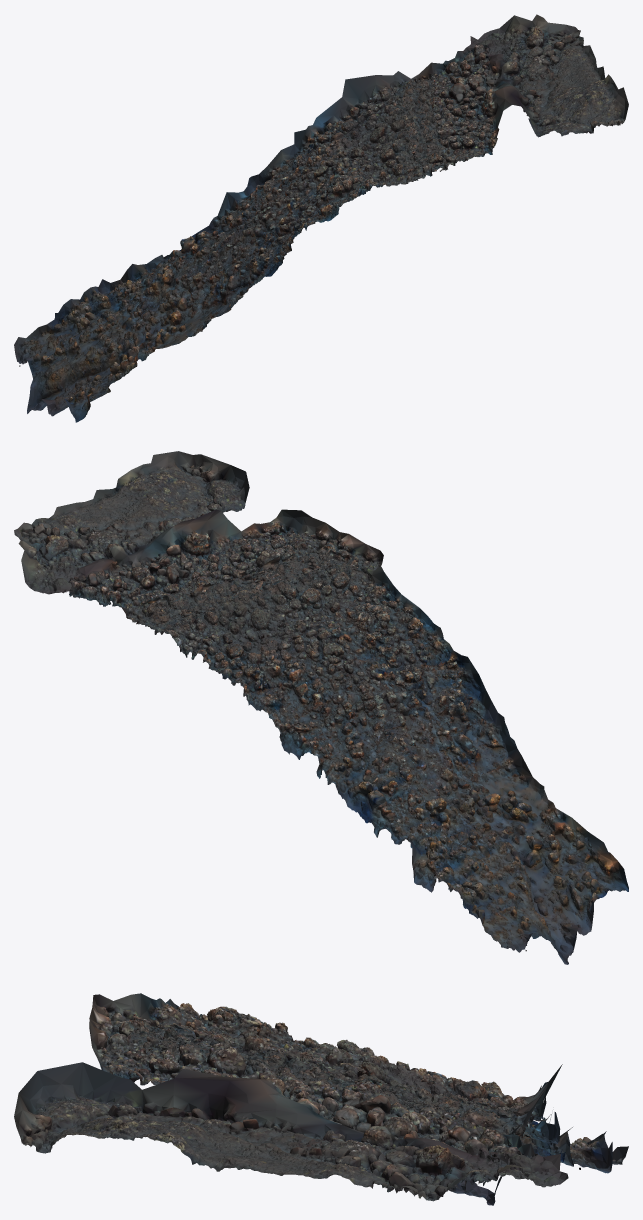
The model's file is reconstruction.glb.
3 renders of one model, top to bottom at view 1: azimuth 30°, elevation 25°; view 2: azimuth 150°, elevation 25°; view 3: azimuth 270°, elevation 25°, orthographic. The views are drawn at different scales.
Visible parts, largest first — view 1: reconstruction; view 2: reconstruction; view 3: reconstruction.
Part boxes in pixels (<box>): reconstruction: <box>14,14,628,422</box>; reconstruction: <box>14,451,628,964</box>; reconstruction: <box>14,993,628,1205</box>.
Size of the model in its own units: 155 by 77.42 by 79.42.
